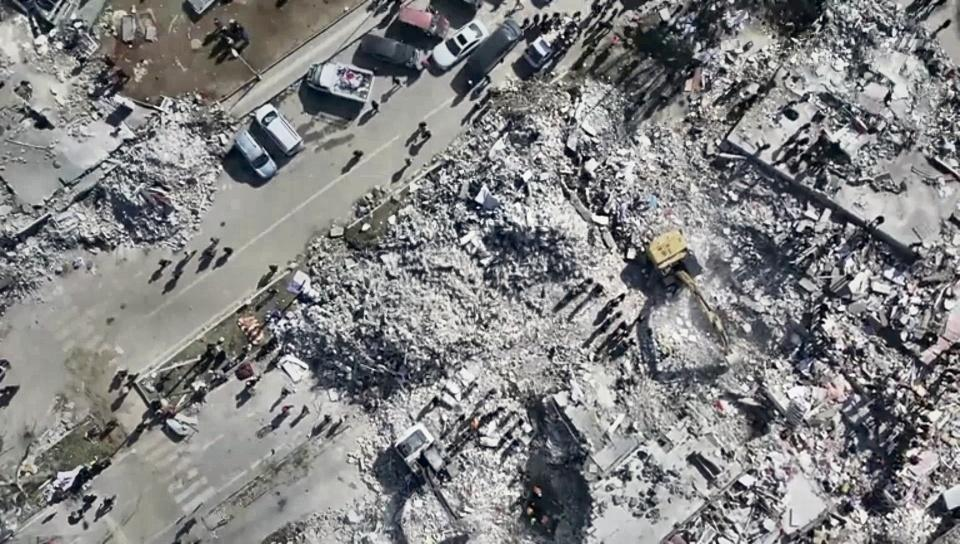kapali: (224, 0, 843, 455)
